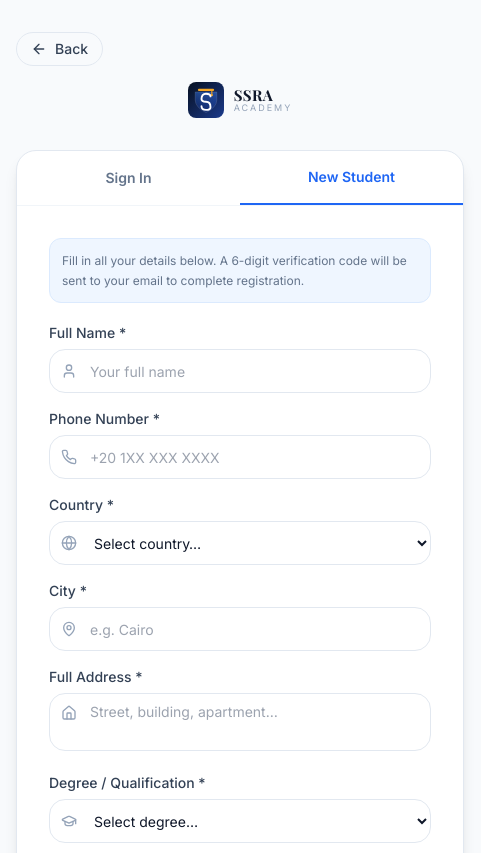
Scenario: Signup — Arabic name rejection › rejects a fully Arabic name with an error toast
Earlier steps of the test are not shown.
Later steps or results of the test are not shown.
Type "محمد علي" into the field with placeholder "Your full name". click: (240, 371)
box: left=49, top=349, right=431, bottom=393
Type "+201234567890" into the field with placeholder "+20 1XX XXX XXXX". click: (240, 457)
box: left=49, top=435, right=431, bottom=479
Select "Egypt" in the dropdown labelled "Country *". click: (240, 543)
box: left=49, top=521, right=431, bottom=565
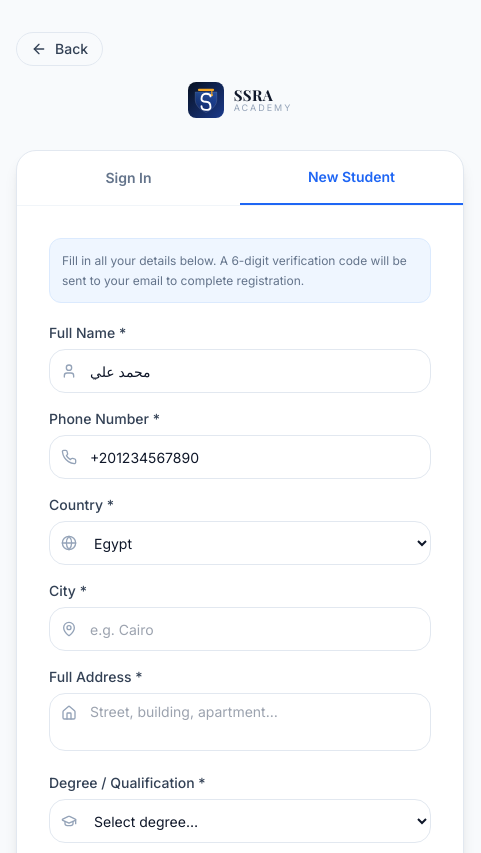
Type "Cairo" into the field with placeholder "e.g. Cairo". click: (240, 629)
box: left=49, top=607, right=431, bottom=651
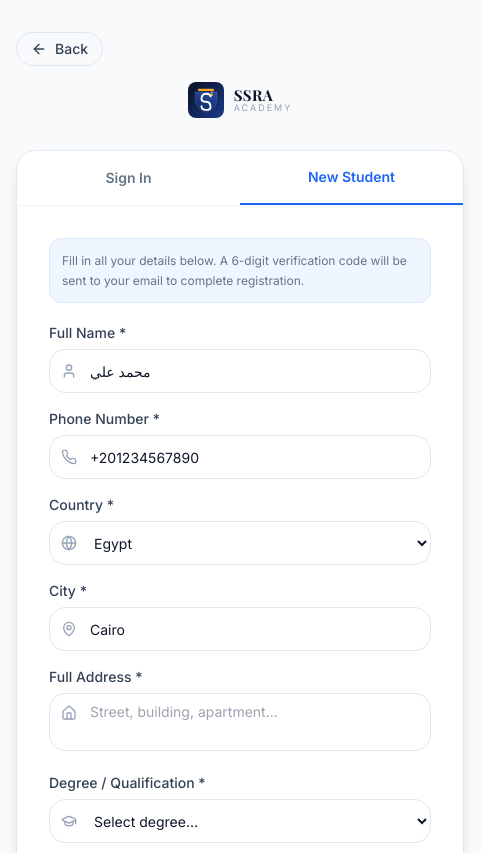
Type "123 Test Street" into the text box with placeholder "Street, building, apartment…". click: (240, 722)
box: left=49, top=693, right=431, bottom=751
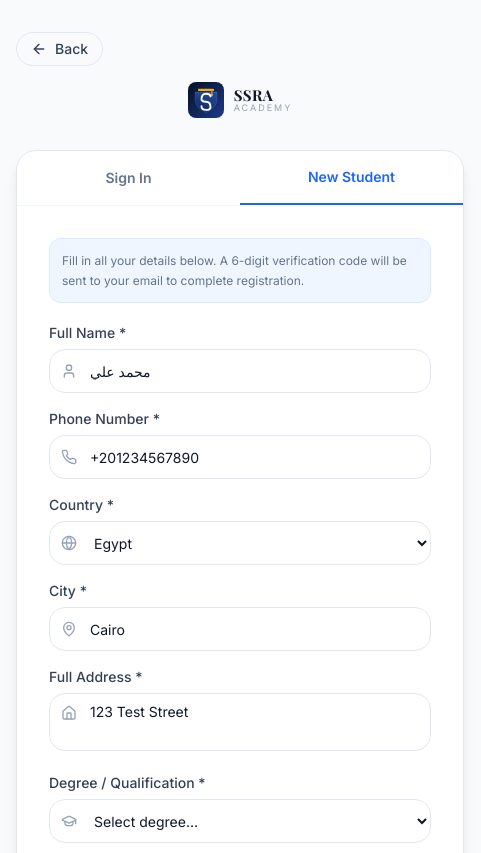
Select "Bachelor of Physical Therapy" in the dropdown labelled "Degree / Qualification *". click: (240, 821)
box: left=49, top=799, right=431, bottom=843
(page scrolled)
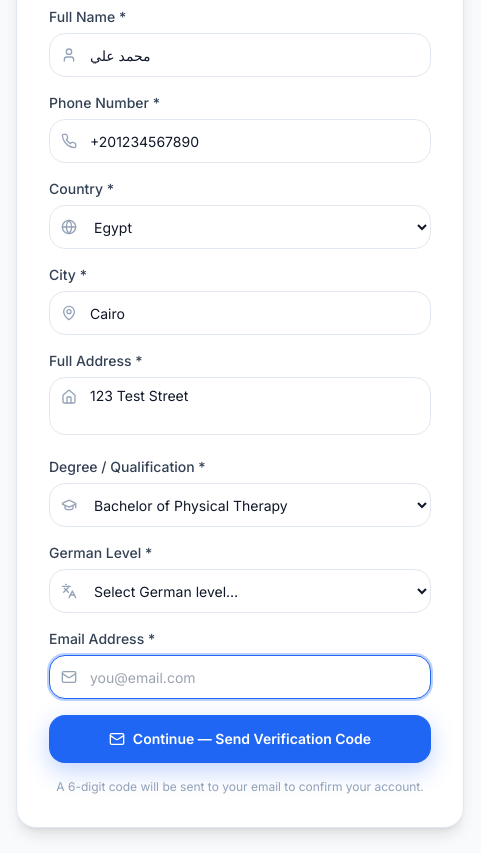
Select "A1" in the dropdown labelled "German Level *". click: (240, 591)
box: left=49, top=569, right=431, bottom=613
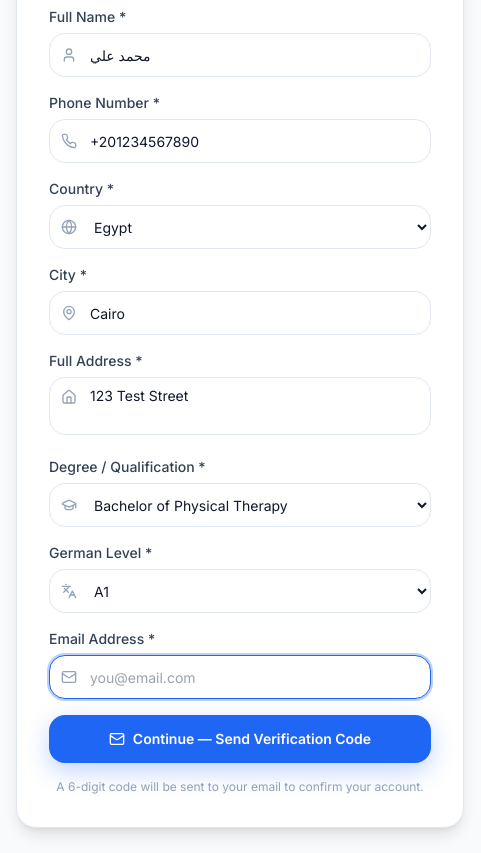
Type "u@test.com" into the field with placeholder "you@email.com". click: (240, 677)
box: left=49, top=655, right=431, bottom=699
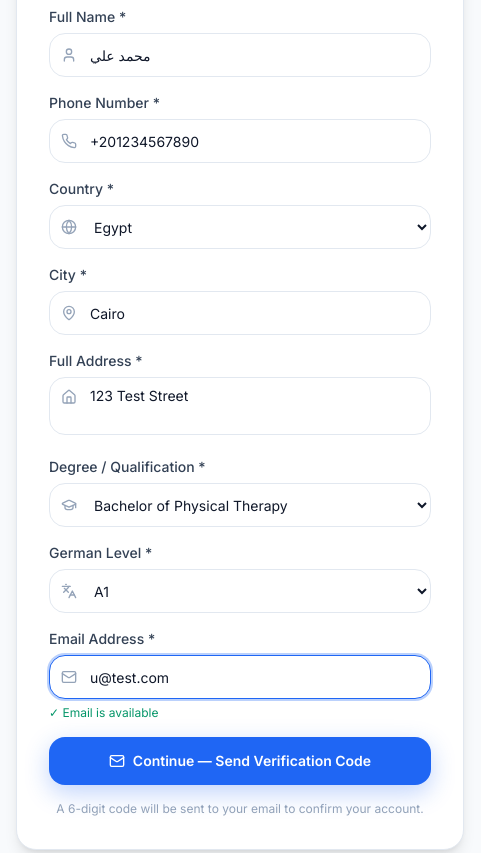
Result: the button "Continue — Send Verification Code" is enabled at left=49, top=737, right=431, bottom=785
